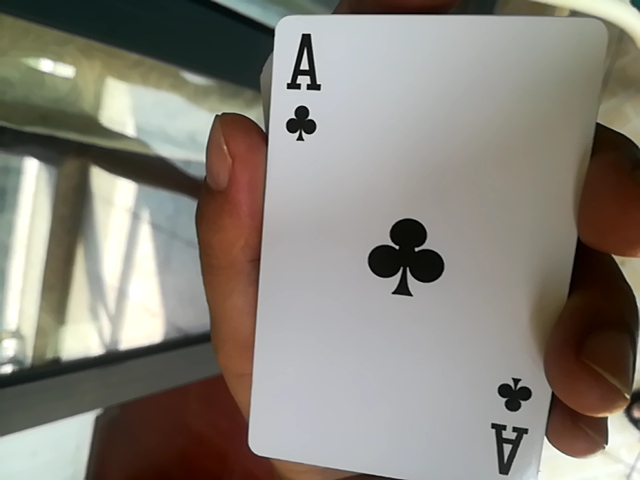mh a: (240, 19, 624, 477)
